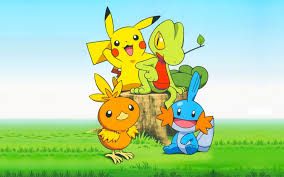mudkip: (159, 71, 219, 163)
pikachu: (87, 3, 158, 97)
